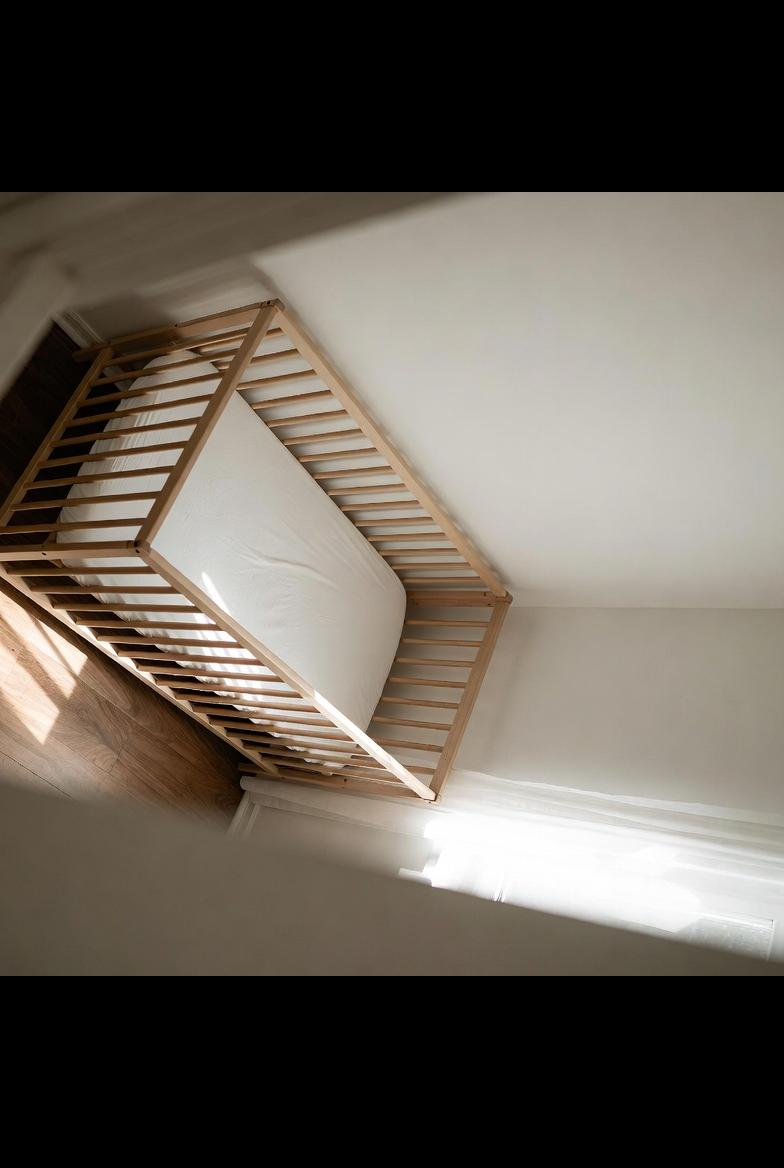crib: (0, 279, 537, 817)
